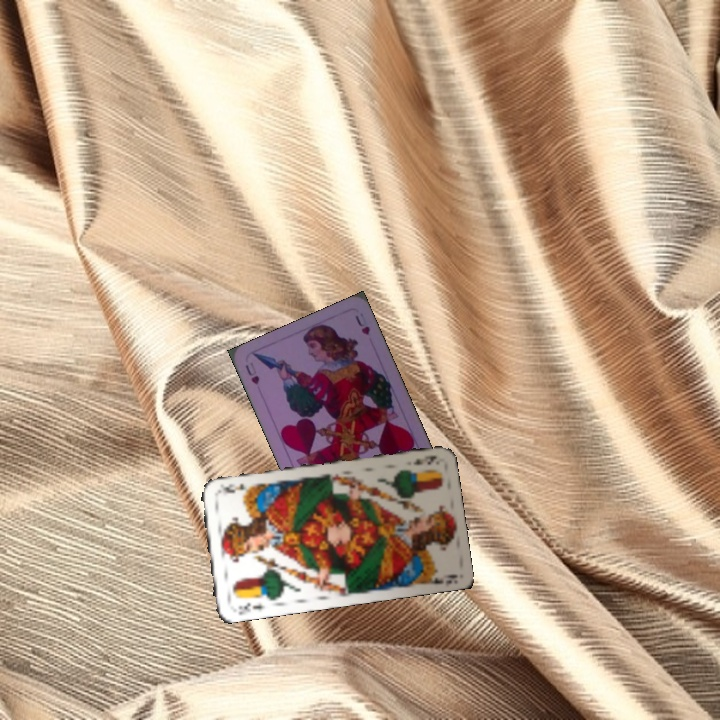EK: (234, 598, 266, 617), (409, 451, 440, 467)
HU: (241, 358, 262, 388)
